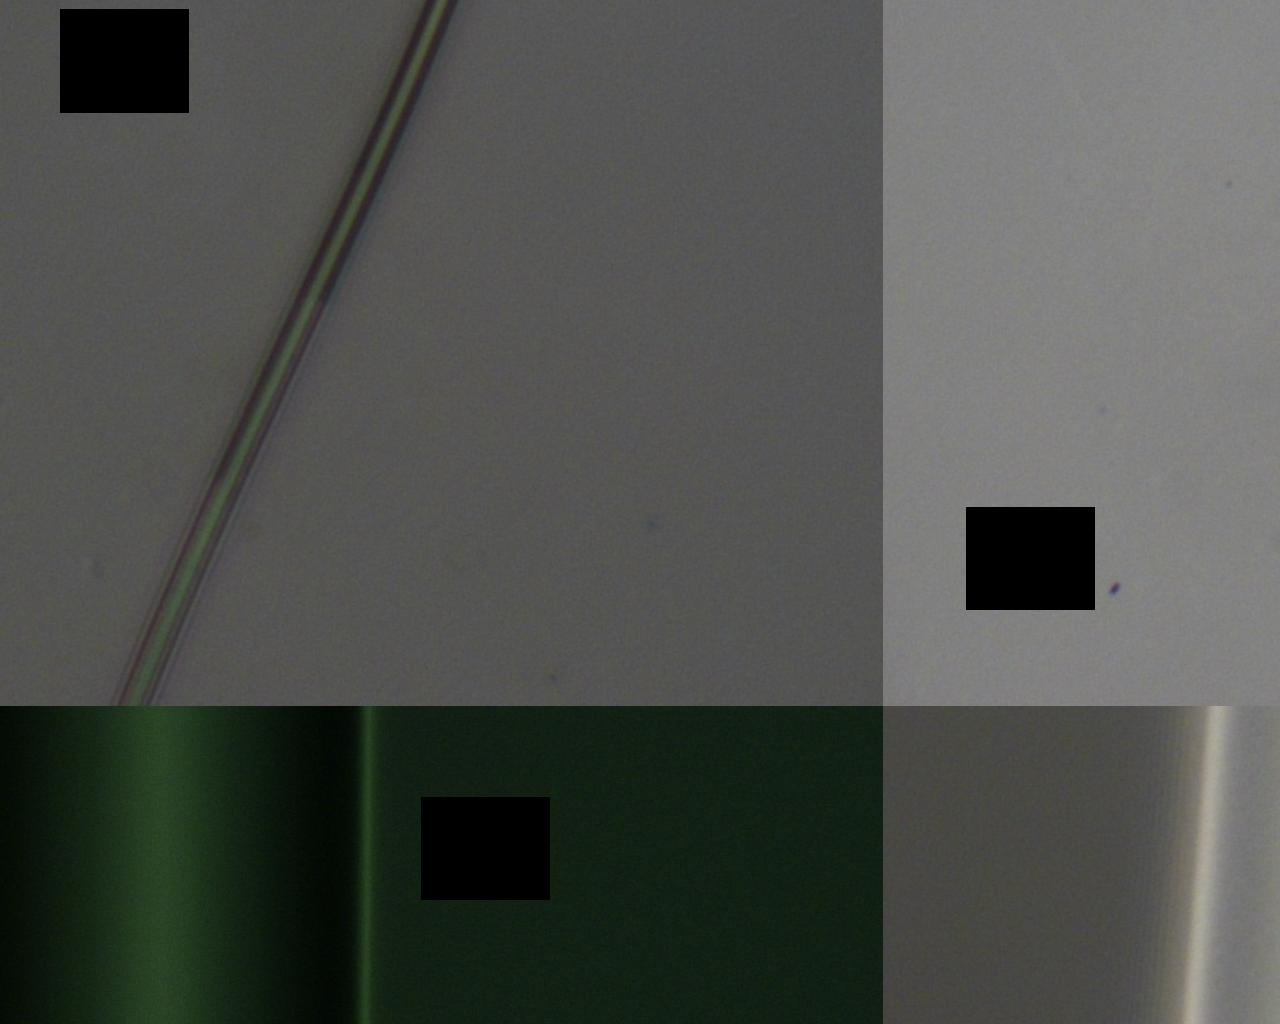fiber: (127, 164, 1151, 659)
